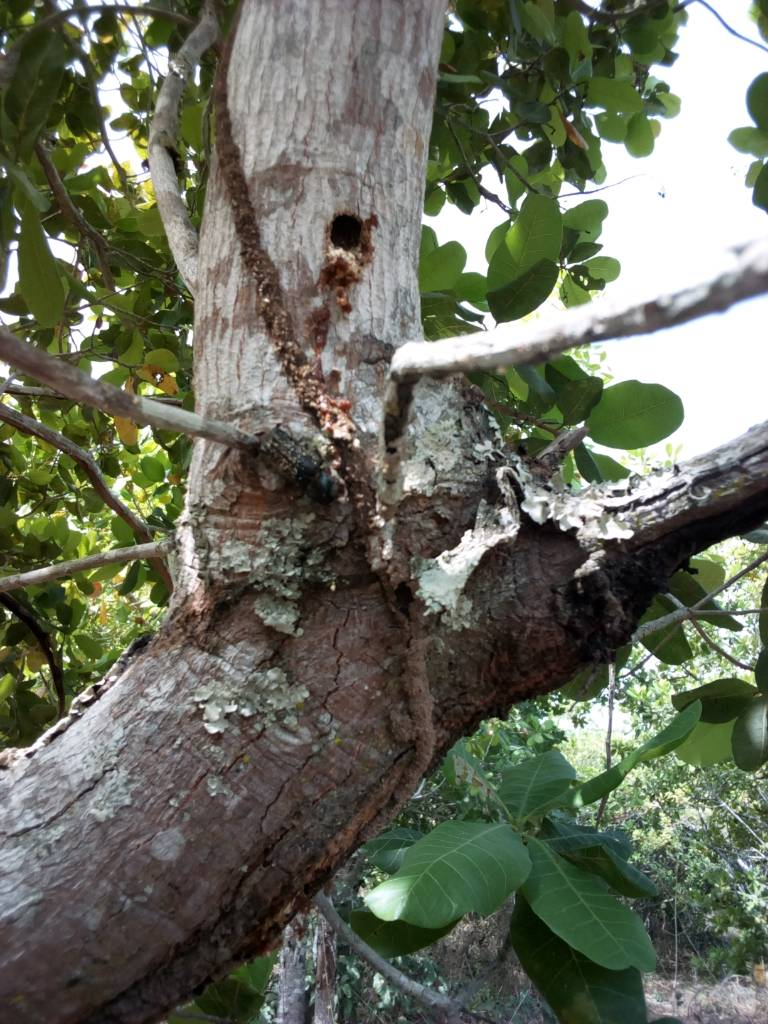Apate terebrans: (299, 183, 436, 308)
